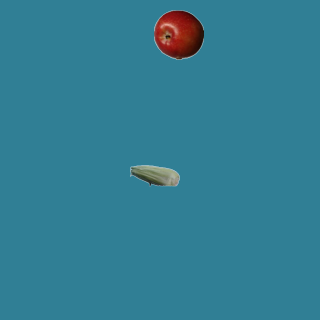Apple Braeburn: (153, 9, 203, 59)
Corn Husk: (129, 150, 179, 200)
